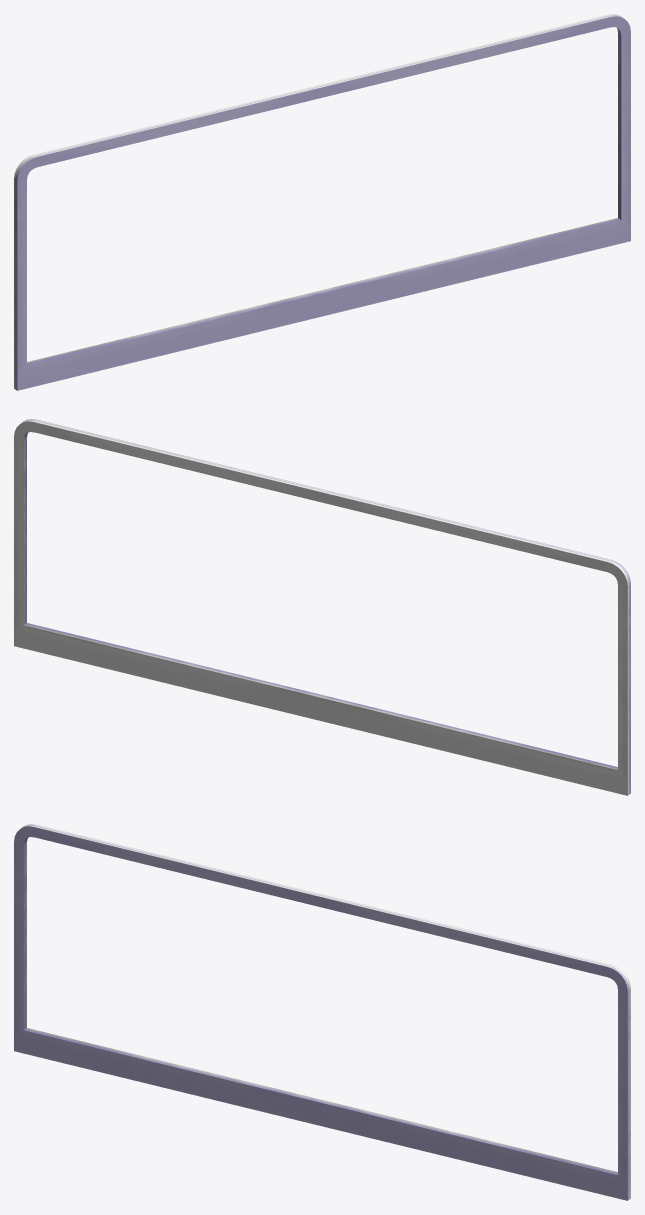
Rendered from slidingDoor-big-noAlpha.glb.
The picture shows the model from 3 angles, top to bottom: view 1: azimuth 30°, elevation 25°; view 2: azimuth 150°, elevation 25°; view 3: azimuth 330°, elevation 25°; orthographic projection.
Parts seen in each view (by area): view 1: bigDoor; view 2: bigDoor; view 3: bigDoor.
Part boxes in pixels (bbox=[...]): bigDoor: bbox=[14, 14, 630, 390]; bigDoor: bbox=[14, 419, 630, 795]; bigDoor: bbox=[14, 824, 630, 1200].
Size of what is drawn, in the model's own units: 10.34 by 3.69 by 0.0958.
Materials: 1 (1 with a texture image).
